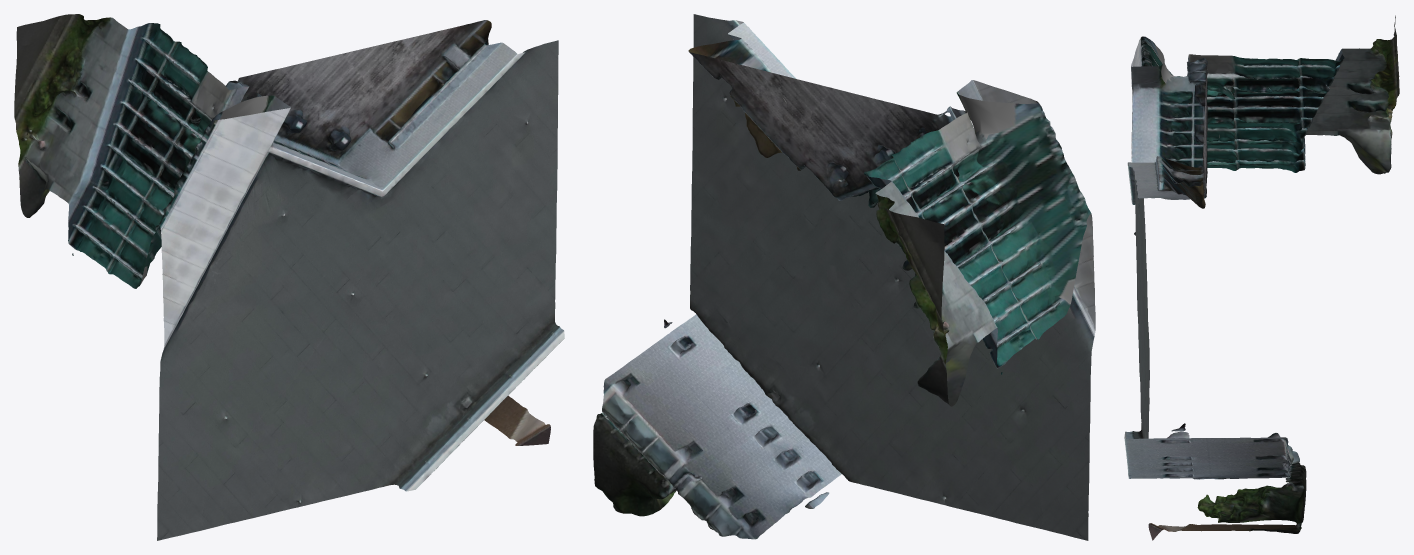
File: Tile_+014_+014.fbx
3 renders of one model, left to right at view 1: azimuth 30°, elevation 25°; view 2: azimuth 150°, elevation 25°; view 3: azimuth 270°, elevation 25°, orthographic. The views are drawn at different scales.
Visible parts, largest first — view 1: DefaultName; view 2: DefaultName; view 3: DefaultName.
Part boxes in pixels (bbox=[...]): DefaultName: bbox=[14, 14, 564, 540]; DefaultName: bbox=[593, 14, 1095, 540]; DefaultName: bbox=[1124, 15, 1399, 540].
Size of the model in its own units: 22.54 by 22.54 by 15.65.
